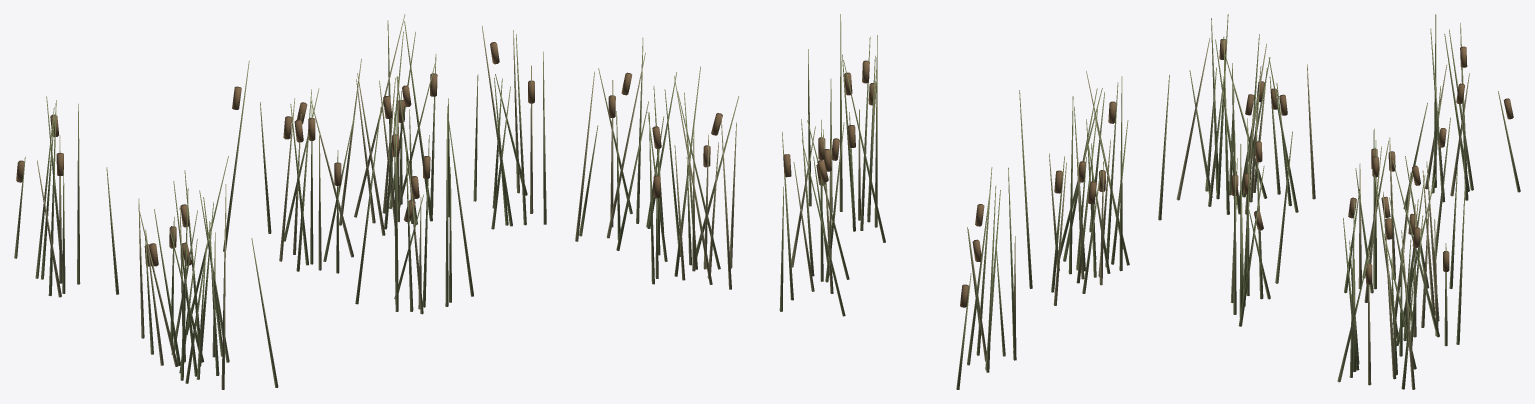
Rendered from reeds.glb.
3 renders of one model, left to right at view 1: azimuth 30°, elevation 25°; view 2: azimuth 150°, elevation 25°; view 3: azimuth 270°, elevation 25°, orthographic. The views are drawn at different scales.
Visible parts, largest first — view 1: reeds; view 2: reeds; view 3: reeds.
Part boxes in pixels (x1=…): reeds: x1=14, y1=14, x2=546, y2=389; reeds: x1=575, y1=14, x2=1129, y2=389; reeds: x1=1158, y1=14, x2=1520, y2=389.
Bounding box in the file's own units: 5.29 × 2.17 × 3.92.
